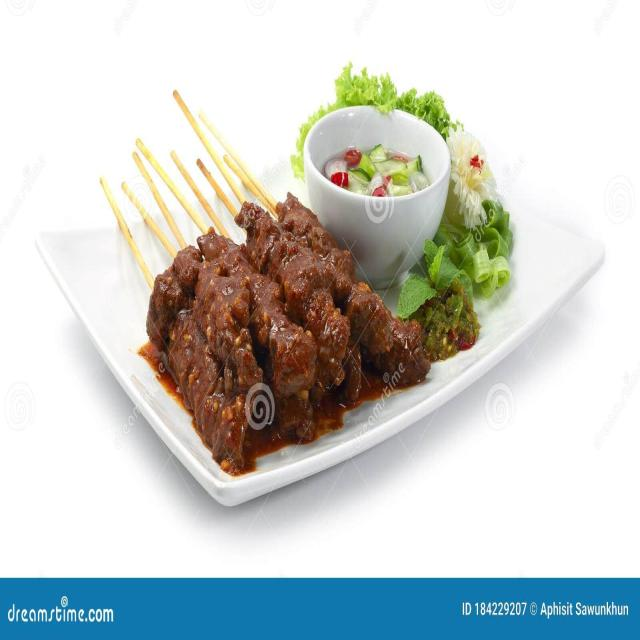Sate: (117, 79, 354, 468)
